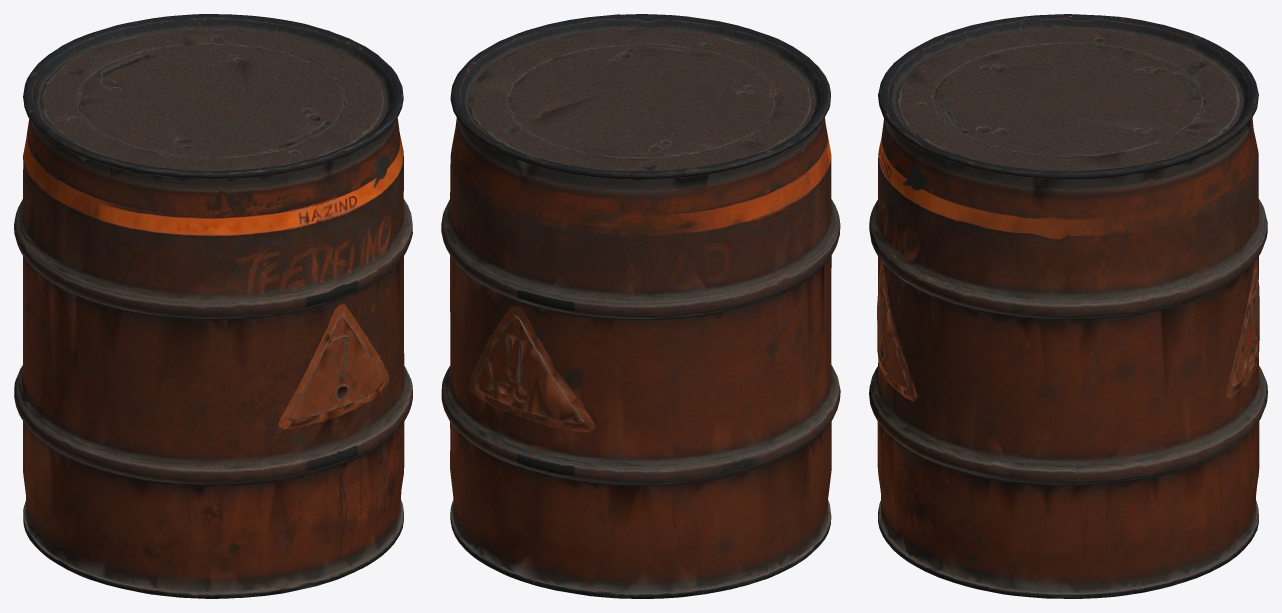
The model's file is barrel.glb.
3 views of the same model, side by side, from view 1: azimuth 30°, elevation 25°; view 2: azimuth 150°, elevation 25°; view 3: azimuth 270°, elevation 25° (orthographic).
Size of the model in its own units: 1.62 by 1.9 by 1.62.
Materials: 1 (1 with a texture image).
